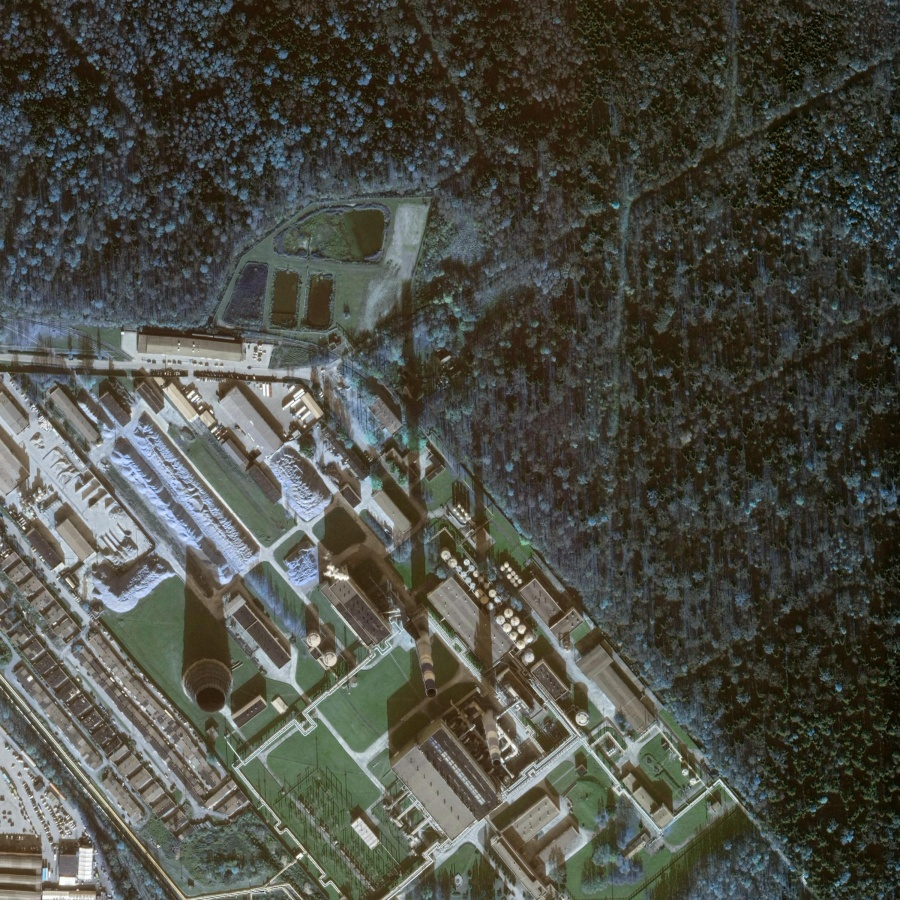PowerPlant: (157, 436, 693, 883)
